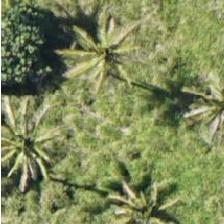coconut_tree: (62, 10, 152, 100), (92, 166, 182, 223), (0, 95, 53, 185)
